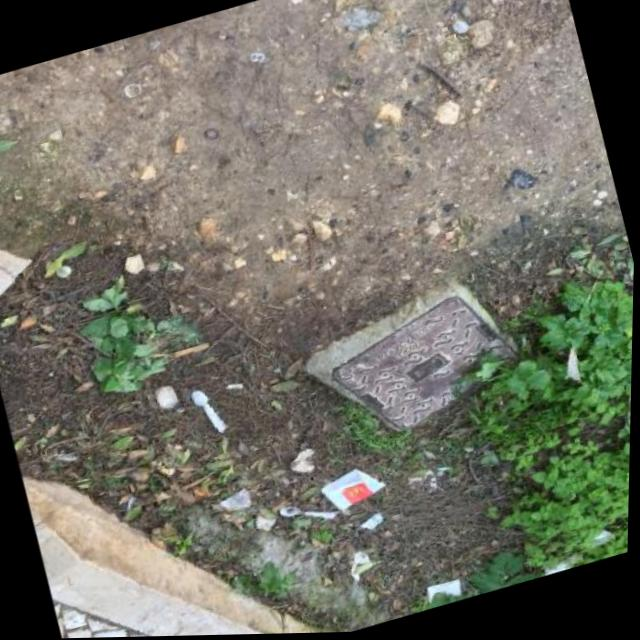paper: (315, 462, 389, 515), (423, 577, 462, 605), (356, 511, 385, 532)
plastic: (276, 494, 336, 533), (188, 384, 228, 438)
